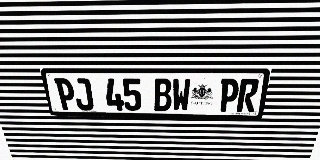4: (104, 78, 124, 111)
5: (122, 78, 142, 111)
B: (153, 78, 172, 111)
J: (72, 78, 94, 110)
P: (54, 78, 77, 110), (218, 79, 240, 112)
R: (236, 79, 260, 112)
W: (172, 78, 191, 111)
